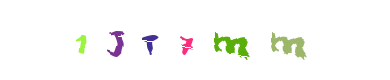1: (90, 0, 170, 80)
7: (166, 0, 246, 80)
J: (146, 0, 226, 80)
M: (192, 0, 272, 80), (205, 0, 285, 80)
T: (154, 0, 234, 80)
